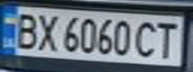0: (112, 17, 136, 57), (78, 15, 100, 54)
6: (60, 14, 81, 53), (96, 16, 115, 55)
B: (9, 9, 42, 51)
C: (133, 18, 160, 58)
T: (154, 19, 181, 60)
X: (33, 10, 60, 52)
